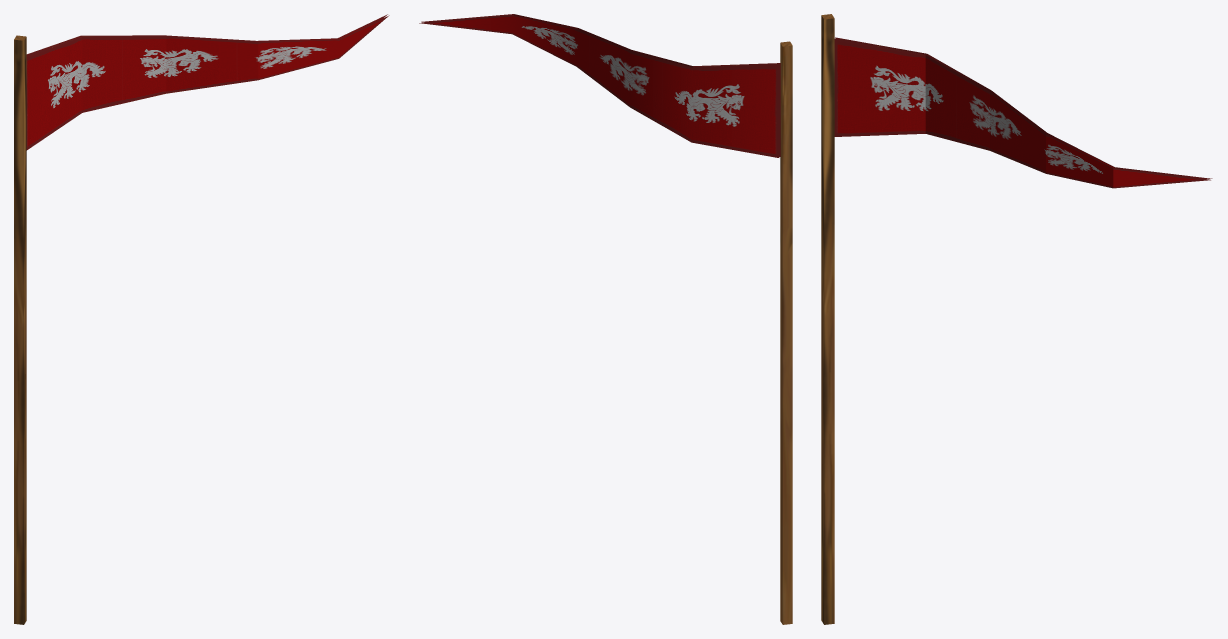
Rendered from Flag_01.FBX.
3 renders of one model, left to right at view 1: azimuth 30°, elevation 25°; view 2: azimuth 150°, elevation 25°; view 3: azimuth 330°, elevation 25°, orthographic. The views are drawn at different scales.
Visible parts, largest first — view 1: Flag_01; view 2: Flag_01; view 3: Flag_01.
Boxes of the visible parts, x1,y1,x2,y2 form: Flag_01: (14, 14, 389, 624); Flag_01: (419, 14, 792, 624); Flag_01: (821, 14, 1212, 624).
Bounding box in the file's own units: 196 × 290 × 35.46.
